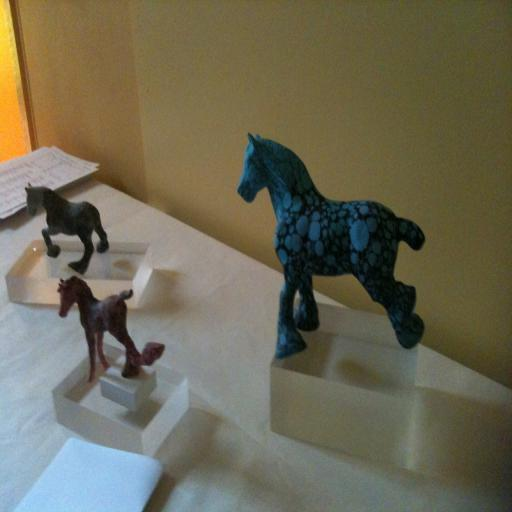horse: (236, 130, 428, 359), (56, 276, 168, 384), (22, 181, 109, 273)
